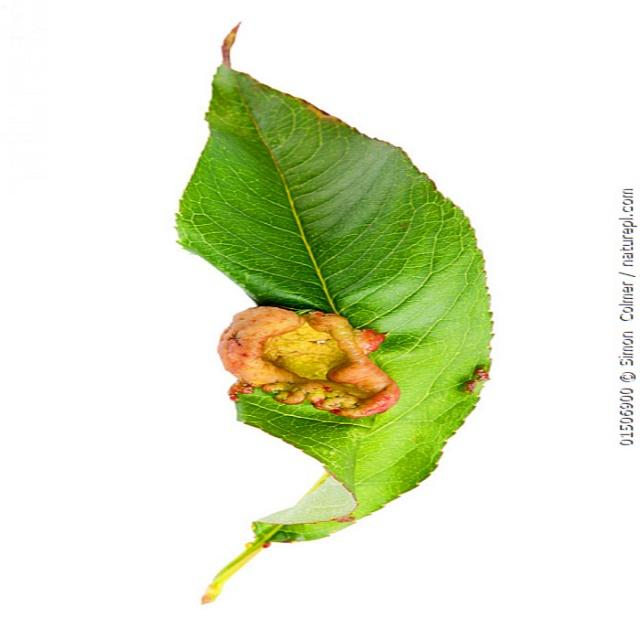leaf_curl: (154, 56, 508, 534)
